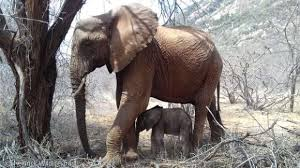Elephant: (58, 3, 232, 163)
